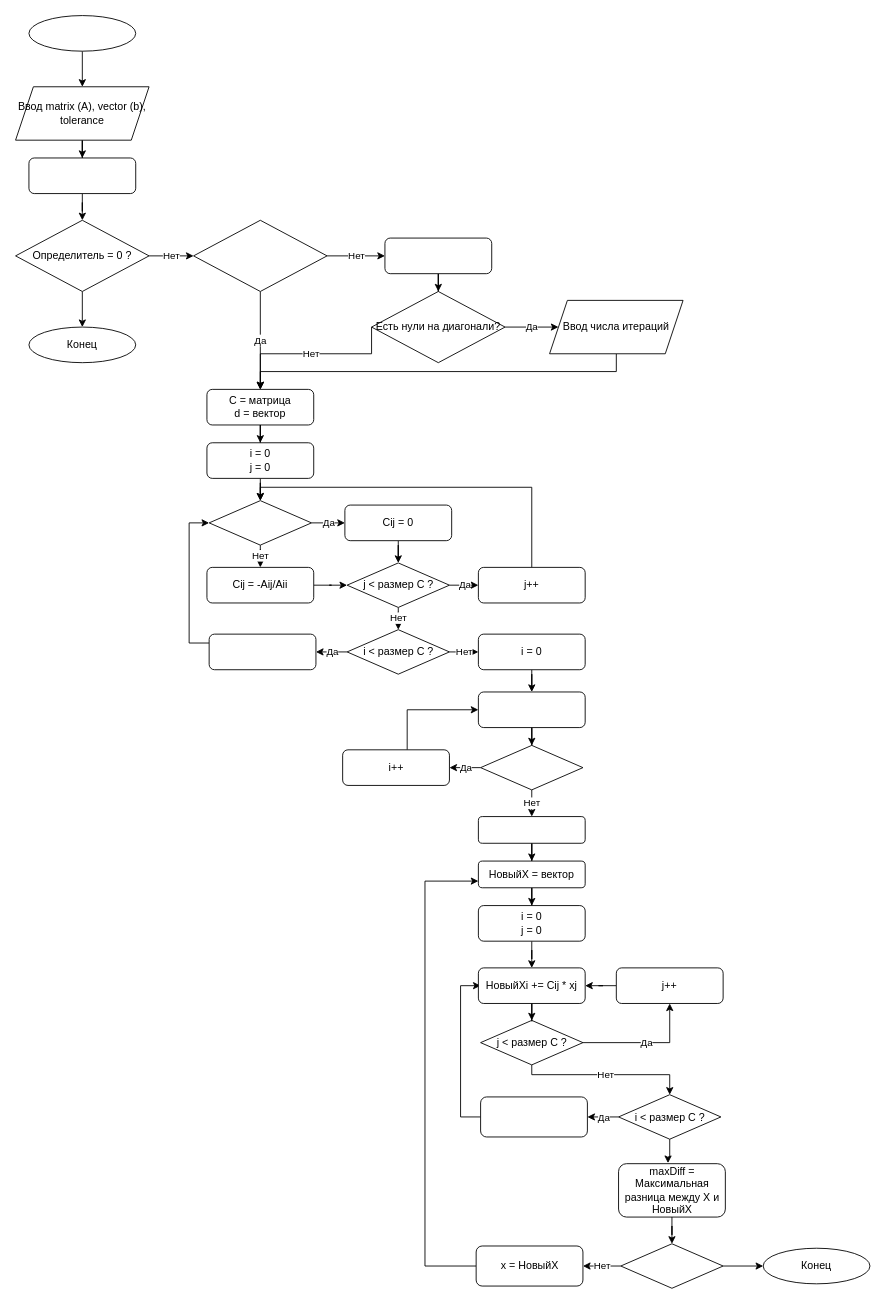
The diagram is 886 pixels wide and 1304 high, and some of its shapes have lost their labels. Here are the shapes that lost their labels. From the top down, the centre of each, then its label:
(x=82, y=33): Начало
(x=82, y=175): Итерации = 1000000
(x=260, y=255): Диагональное преобладание?
(x=438, y=255): Привести к диагональному преобладанию
(x=260, y=522): i = j ?
(x=262, y=651): i++ j = 0
(x=531, y=709): di = bi / Aii
(x=531, y=767): i < размер d ?
(x=531, y=829): x = вектор
(x=533, y=1116): НовыйXi += di i++ j = 0
(x=671, y=1265): maxDiff < tolerance
